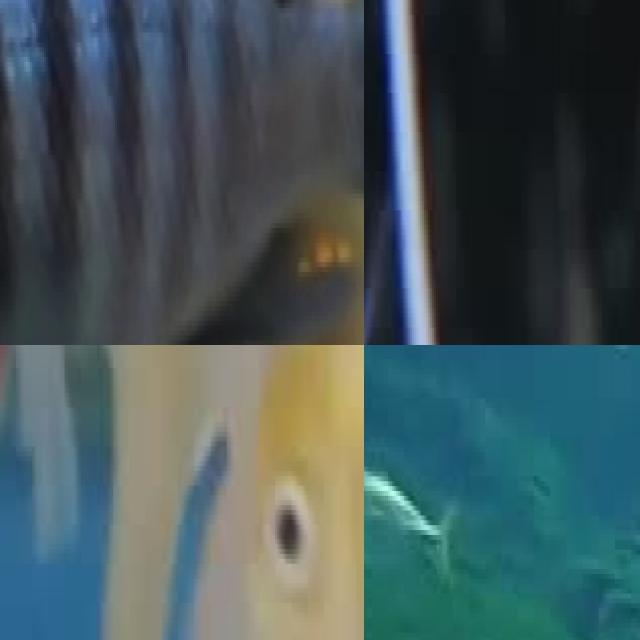fish: (0, 0, 364, 345), (119, 345, 364, 640), (399, 78, 640, 345)
